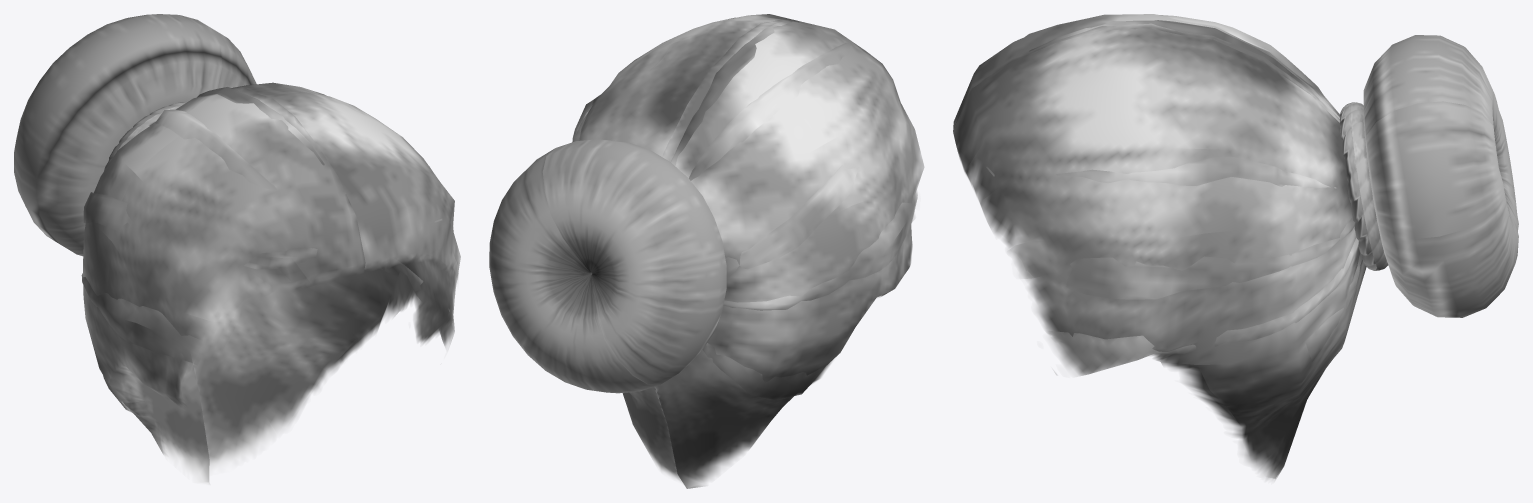
Rendered from daz_hair_rehman_bun.glb.
3 views of the same model, side by side, from view 1: azimuth 30°, elevation 25°; view 2: azimuth 150°, elevation 25°; view 3: azimuth 270°, elevation 25° (orthographic). The views are drawn at different scales.
Visible parts, largest first — view 1: daz_hair_rehman_bun; view 2: daz_hair_rehman_bun; view 3: daz_hair_rehman_bun.
Boxes of the visible parts, x1,y1,x2,y2 form: daz_hair_rehman_bun: (14,14,460,484); daz_hair_rehman_bun: (489,14,924,488); daz_hair_rehman_bun: (953,14,1518,480).
Size of the model in its own units: 0.1514 by 0.1995 by 0.2259.
Materials: 1 (1 with a texture image).
